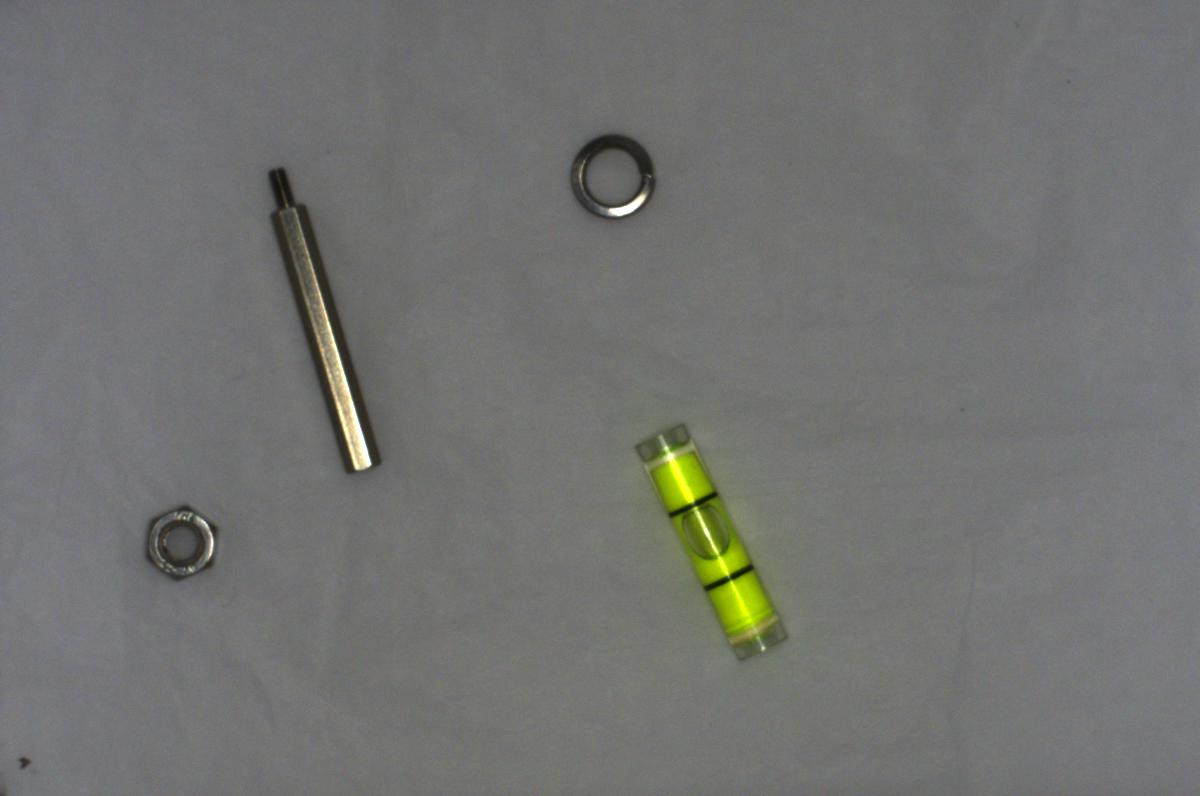Hexagon nut: (133, 496, 225, 589)
Hexagonal steel column: (266, 156, 386, 486)
Horizontal bubble: (631, 412, 791, 661)
Spring washer: (568, 126, 667, 216)
